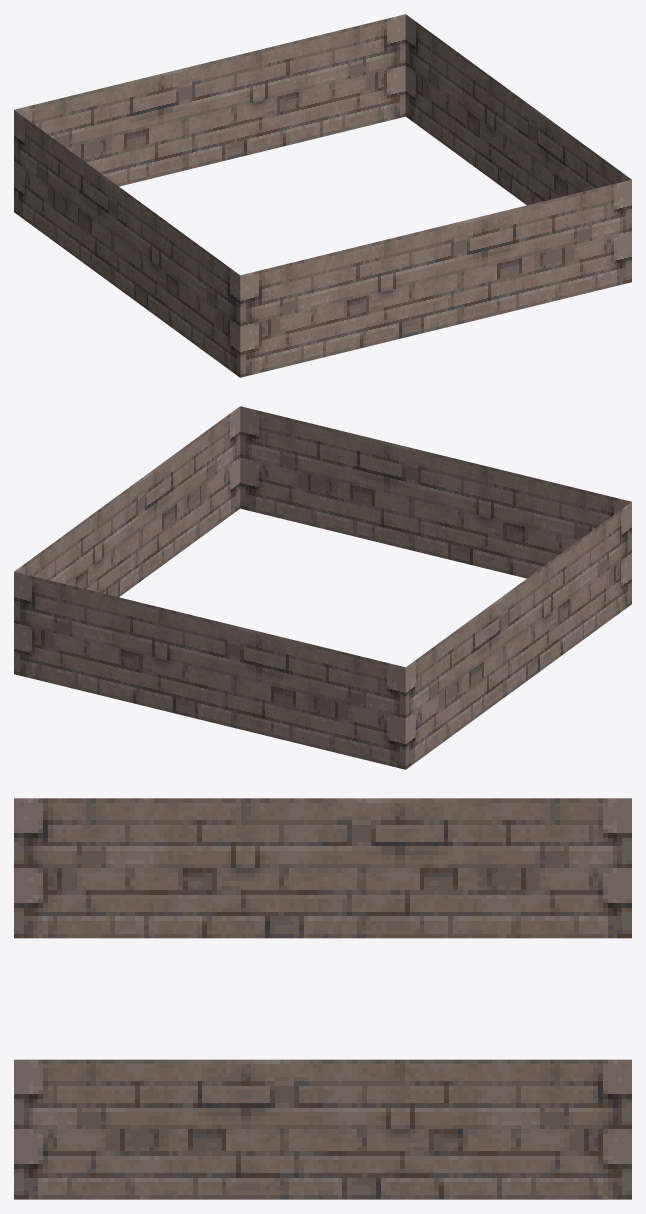
The model's file is stone_square_1m.glb.
The picture shows the model from 3 angles, top to bottom: view 1: azimuth 30°, elevation 25°; view 2: azimuth 150°, elevation 25°; view 3: azimuth 270°, elevation 25°; orthographic projection. The views are drawn at different scales.
Parts seen in each view (by area): view 1: stone_square_1m; view 2: stone_square_1m; view 3: stone_square_1m.
Part boxes in pixels (left/top/right/bottom): stone_square_1m: left=14, top=14, right=631, bottom=377; stone_square_1m: left=14, top=406, right=631, bottom=769; stone_square_1m: left=14, top=798, right=631, bottom=1199.
Bounding box in the file's own units: 5 × 1.25 × 5.
1 material, 1 textured.
